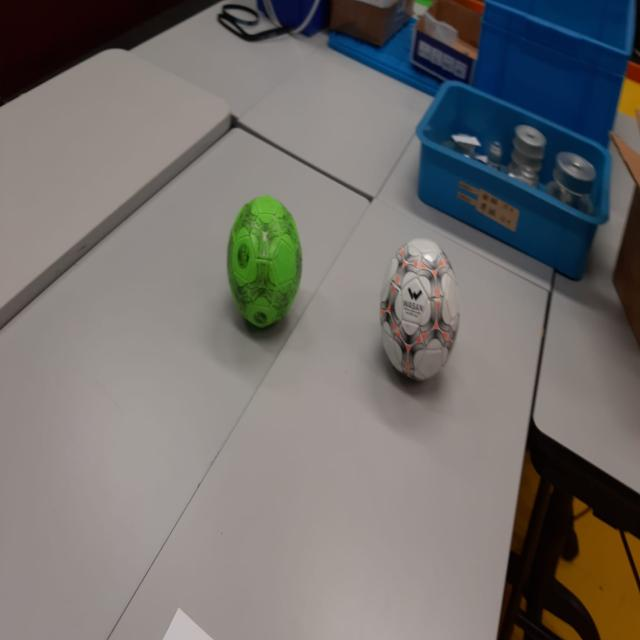ball: (382, 238, 461, 387), (227, 196, 302, 334)
